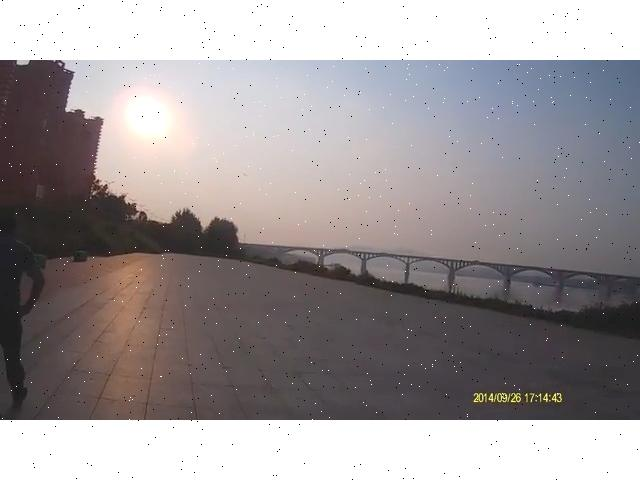Anti-Drone: (238, 172, 254, 180)
